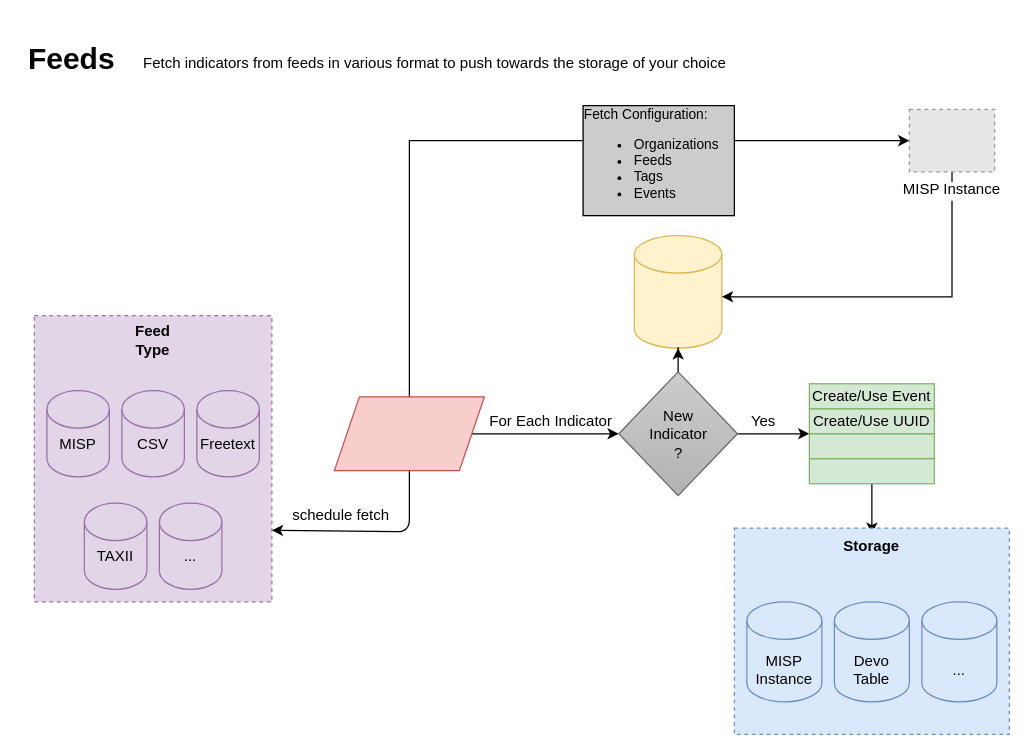
This 1031x756 diagram has some shape labels left out. Grey dashed boxes stand in for pictures. Here are the shapes that lost their labels. From the top down, the centre of each, then its label:
(677,291): SightingDB
(408,433): Feeds (program)
(871,445): Enrich Tags
(871,471): Enrich Indicator
